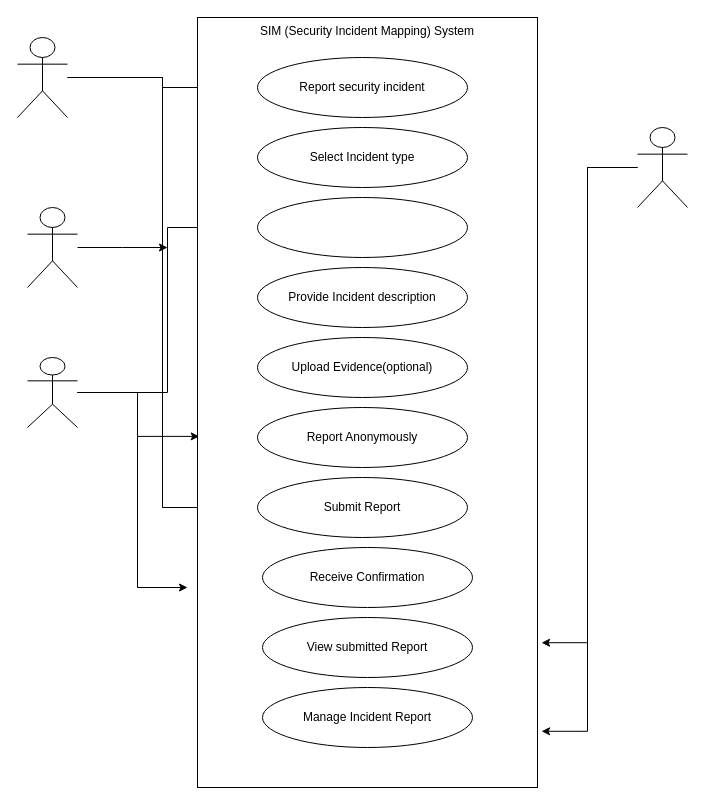
Some shapes in this 705 by 805 pixel diagram are drawn without their labels. The shapes that lost their labels are listed below. From the top down, each one's centre as x and y in pixels, then its label:
the point at 42,77: Student
the point at 662,167: Admin
the point at 52,247: Staff
the point at 362,227: Enter Incident location
the point at 52,392: Landlord
